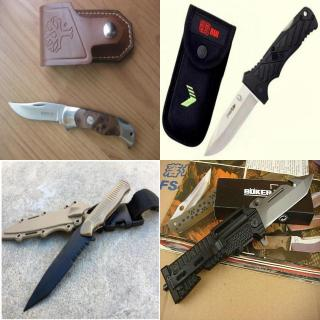knife: (6, 98, 138, 152), (22, 218, 96, 313), (202, 78, 261, 156), (250, 170, 316, 232)
